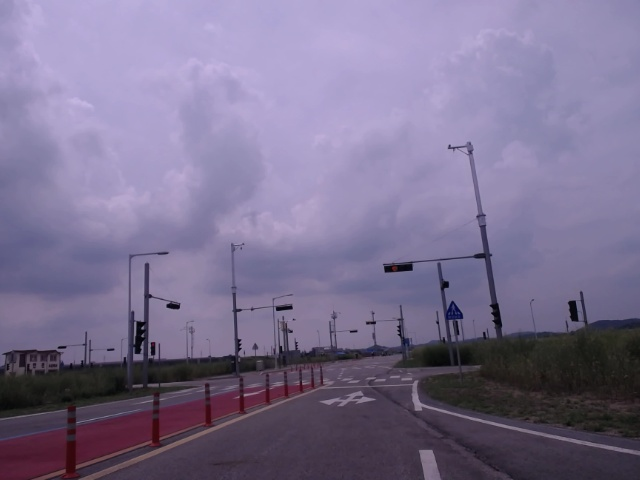orange_4: (382, 262, 417, 276), (366, 320, 378, 325)
